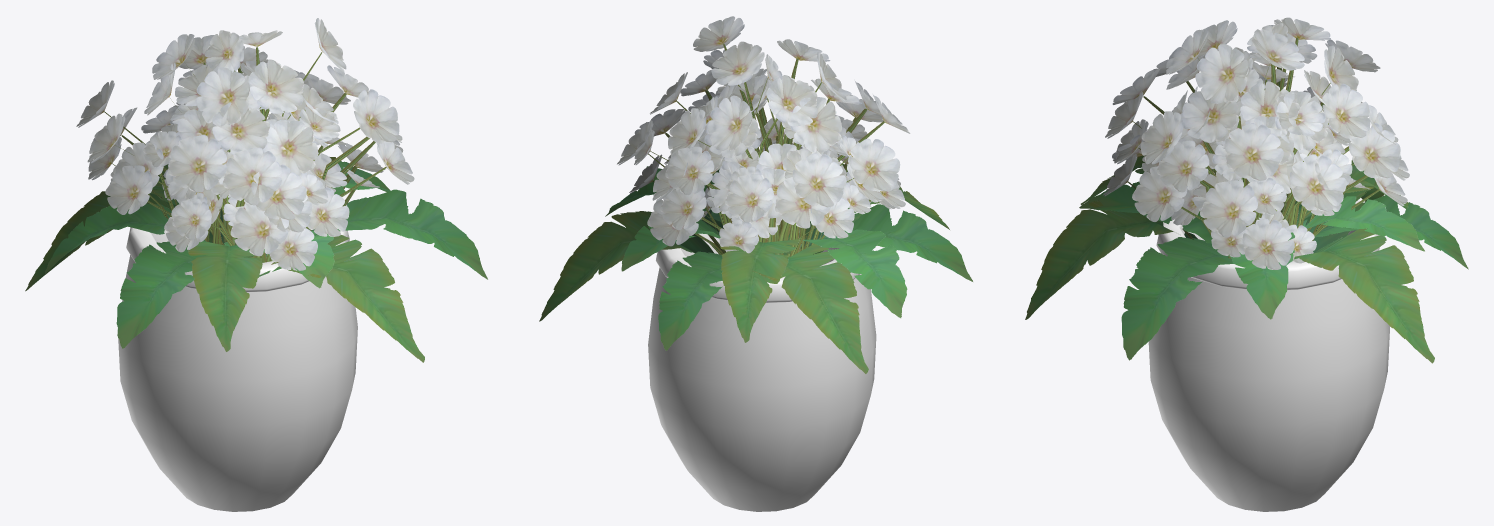
The model's file is SM_Potted_White2_Flower_A.fbx.
The picture shows the model from 3 angles, left to right: view 1: azimuth 30°, elevation 25°; view 2: azimuth 150°, elevation 25°; view 3: azimuth 270°, elevation 25°; orthographic projection. The views are drawn at different scales.
Visible parts, largest first — view 1: SM_Potted_White2_Flower_A_LOD0; view 2: SM_Potted_White2_Flower_A_LOD0; view 3: SM_Potted_White2_Flower_A_LOD0.
Part boxes in pixels (x1,y1,x2,y2): SM_Potted_White2_Flower_A_LOD0: [25, 18, 487, 511]; SM_Potted_White2_Flower_A_LOD0: [539, 16, 972, 511]; SM_Potted_White2_Flower_A_LOD0: [1025, 17, 1468, 511].
Size of the model in its own units: 113 by 121 by 137.
2 materials, 1 textured.
